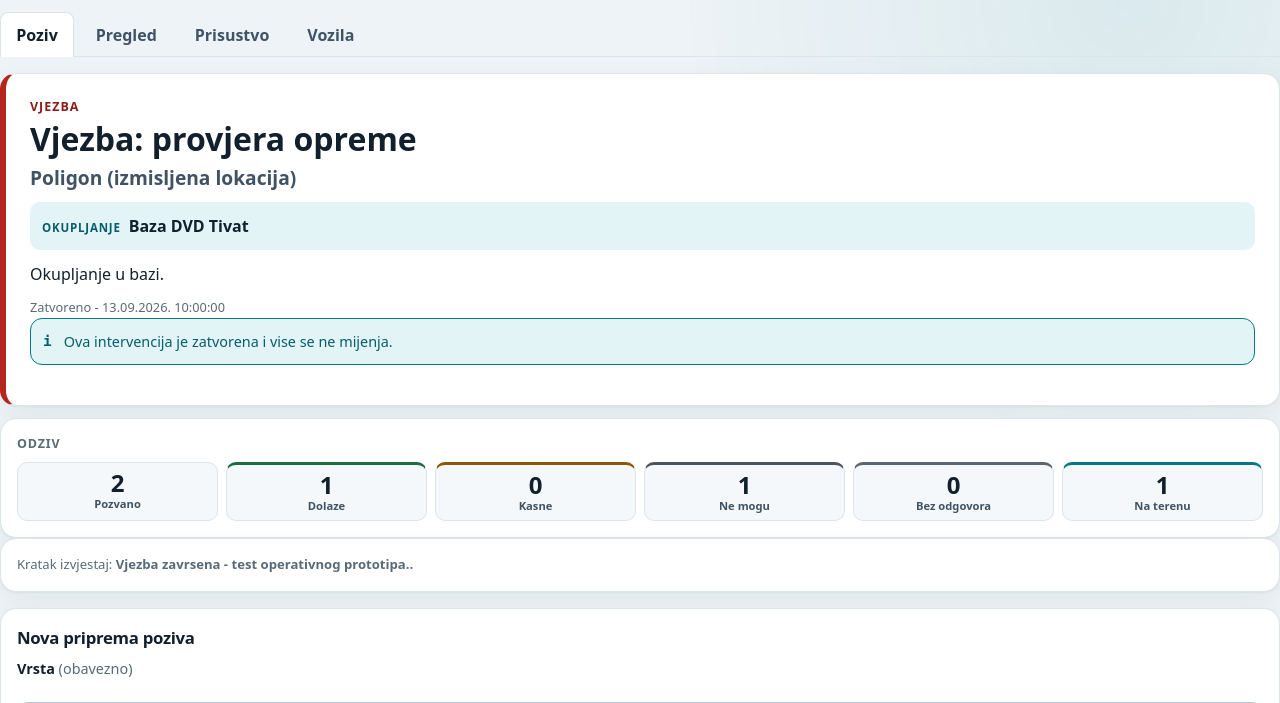
Test case: every recorded time and duration reaches the screen › shows the commander and the archive the same numbers
Click the tab "Pregled": [126, 34] box [80,12,173,56]
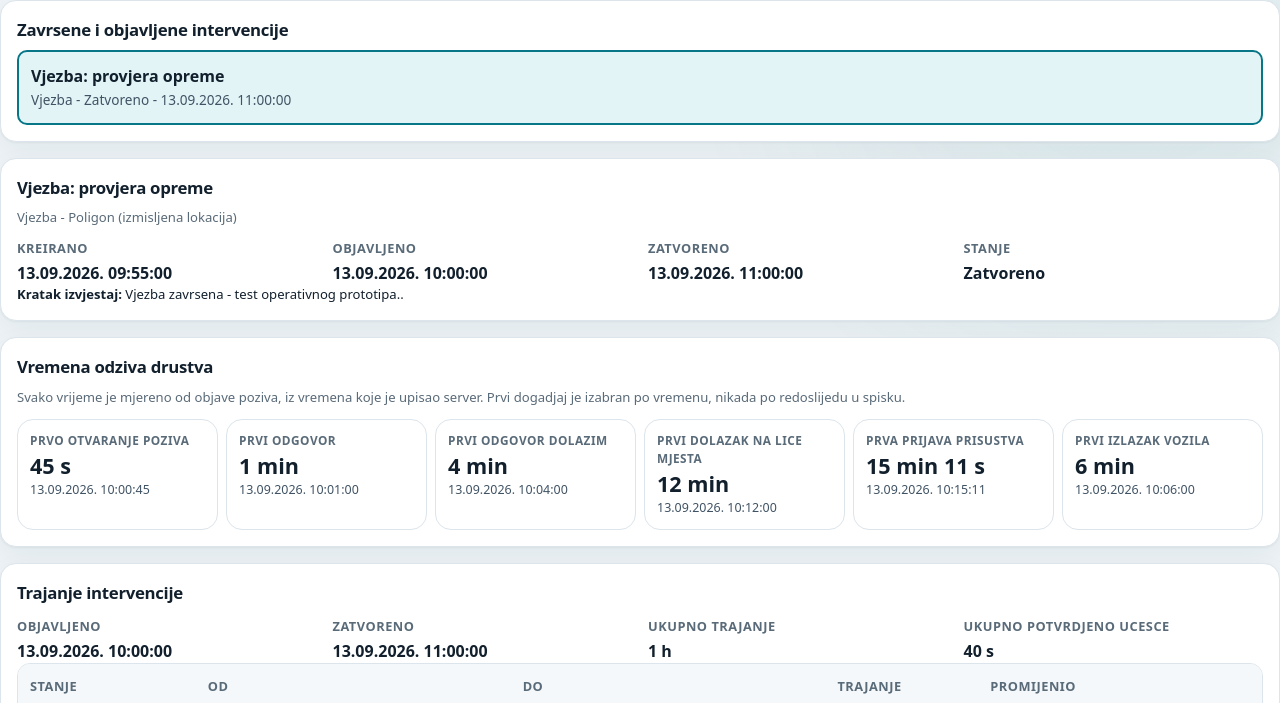
Now the text "1 h" is shown, box [648,640,672,662]
Now the text "40 s" is shown, box [964,640,994,662]
